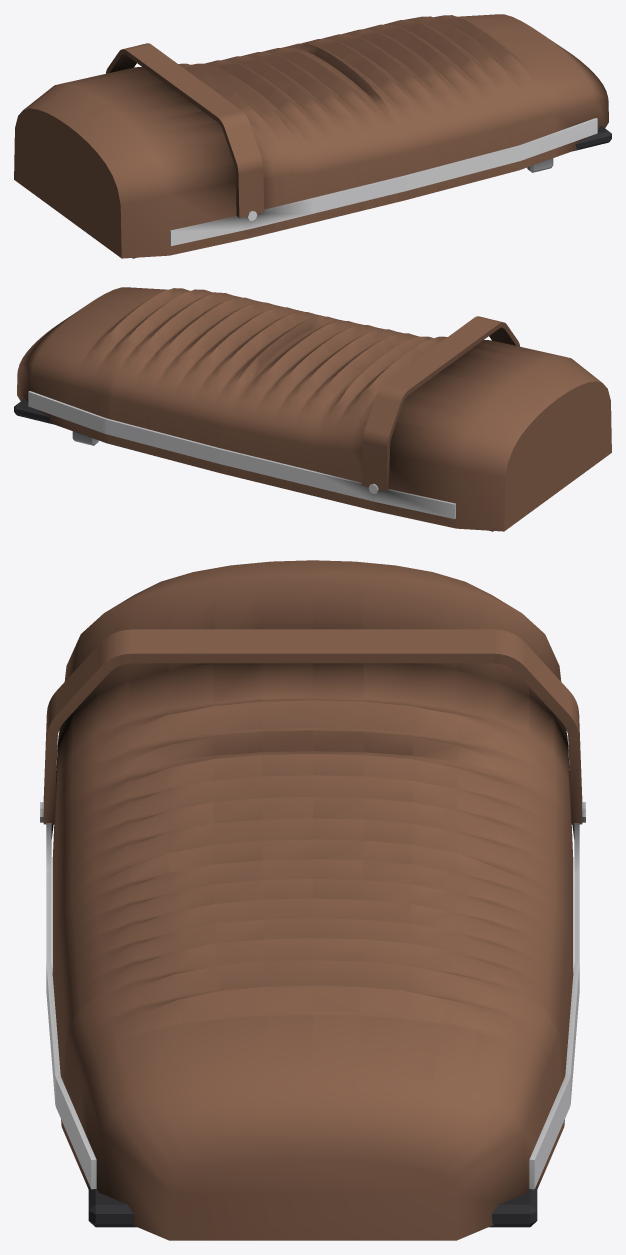
The model's file is seat_saddle.glb.
3 views of the same model, one above another, from view 1: azimuth 30°, elevation 25°; view 2: azimuth 150°, elevation 25°; view 3: azimuth 270°, elevation 25° (orthographic). The views are drawn at different scales.
Parts seen in each view (by area): view 1: PART; view 2: PART; view 3: PART.
Part boxes in pixels (x1,y1,x2,y2): PART: [14, 14, 611, 258]; PART: [14, 287, 611, 531]; PART: [40, 560, 585, 1240].
Bounding box in the file's own units: 0.65 × 0.162 × 0.304.
